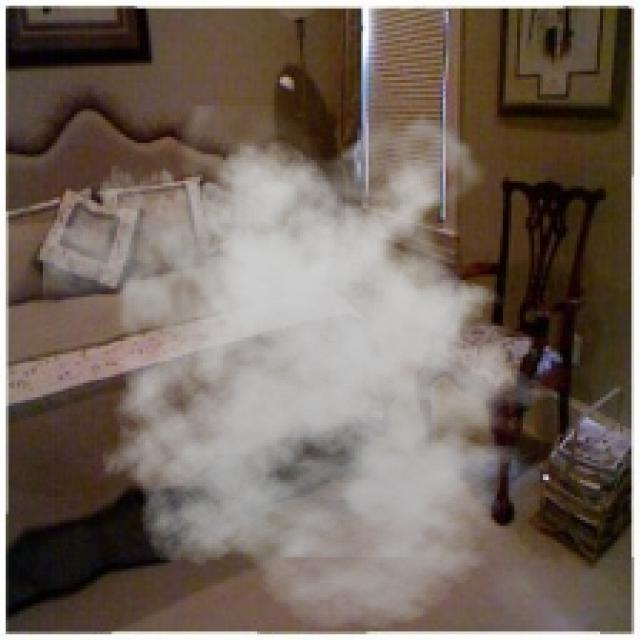Smoke: (42, 106, 574, 632)
